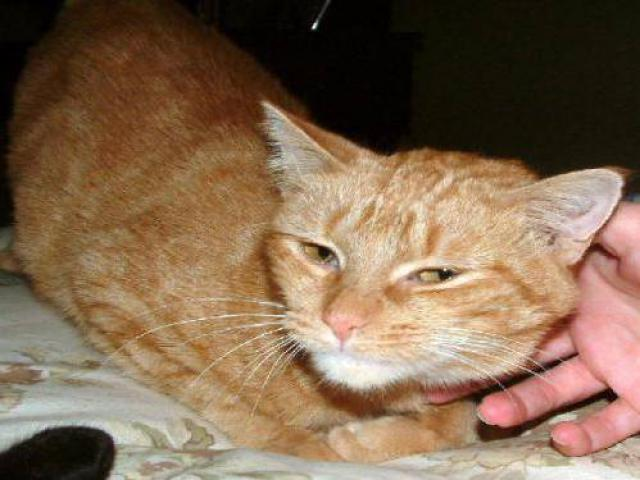cat: (2, 21, 632, 458)
